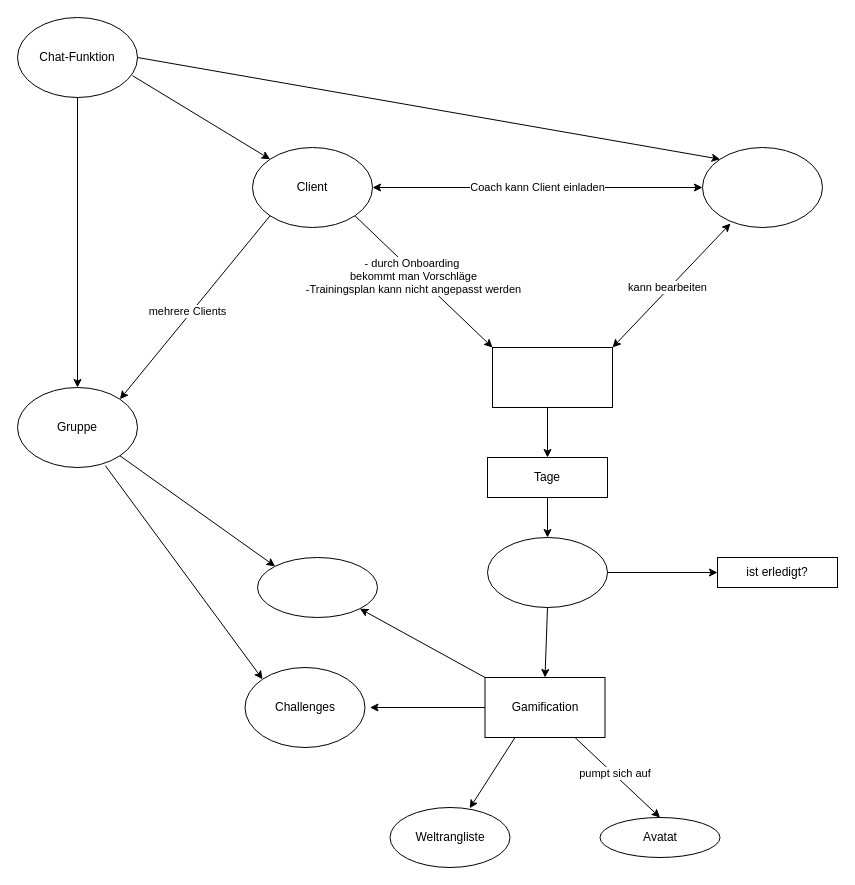
Some shapes in this 855 by 885 pixel diagram are drawn without their labels. Each missing label, with the centre of its shape:
"Coach" goes at point 762,187.
"Gruppenrangliste" goes at point 317,587.
"Trainingsplan" goes at point 552,377.
"Übung" goes at point 547,572.
